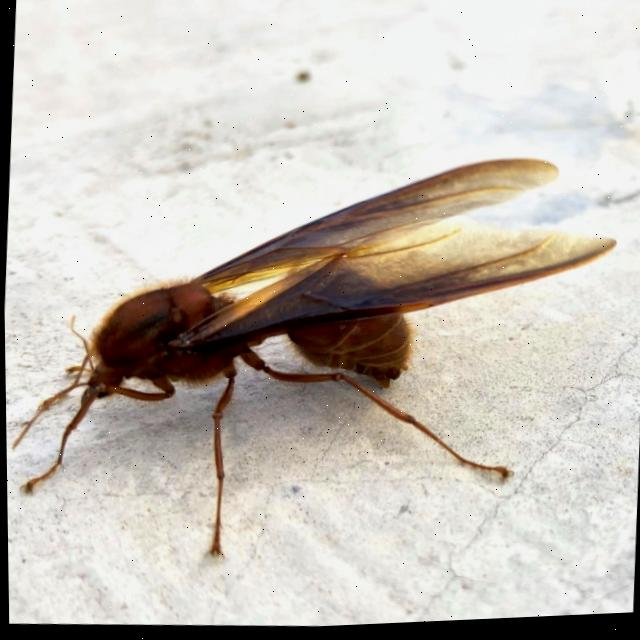Alive-Male-Alate: (2, 131, 626, 589)
